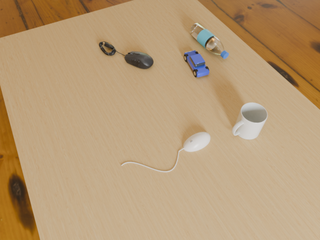bottle: (190, 23, 229, 59)
cup: (232, 103, 267, 139)
mouse: (183, 132, 210, 152), (125, 51, 153, 69)
toy_car: (184, 50, 209, 77)
